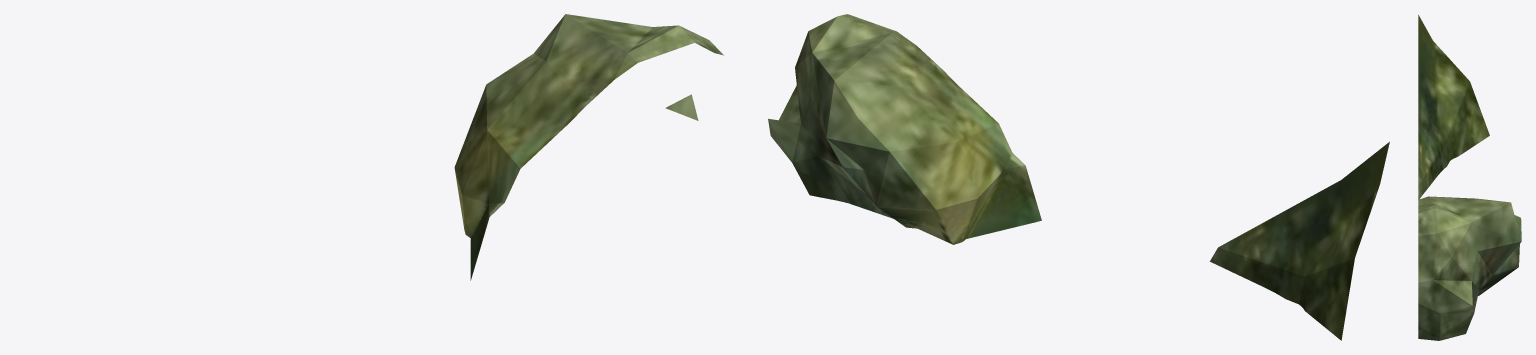
The picture shows the model from 3 angles, left to right: view 1: azimuth 30°, elevation 25°; view 2: azimuth 150°, elevation 25°; view 3: azimuth 270°, elevation 25°; orthographic projection. The views are drawn at different scales.
Size of the model in its own units: 3.61 by 0.9832 by 0.7498.
1 material, 1 textured.
